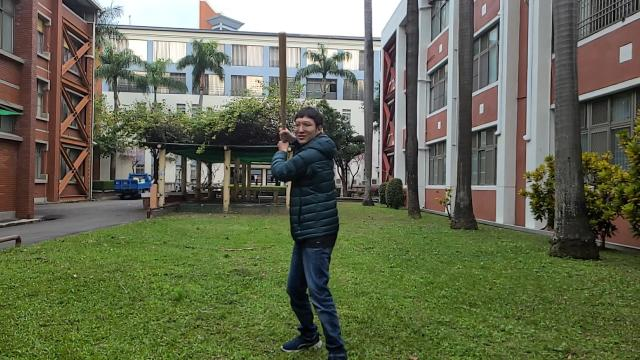bat: (278, 30, 286, 130)
